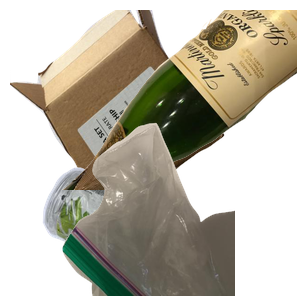cardboard: (10, 10, 227, 190)
glass: (60, 10, 300, 190)
plastic: (40, 165, 235, 300)
trash: (60, 120, 300, 300)
